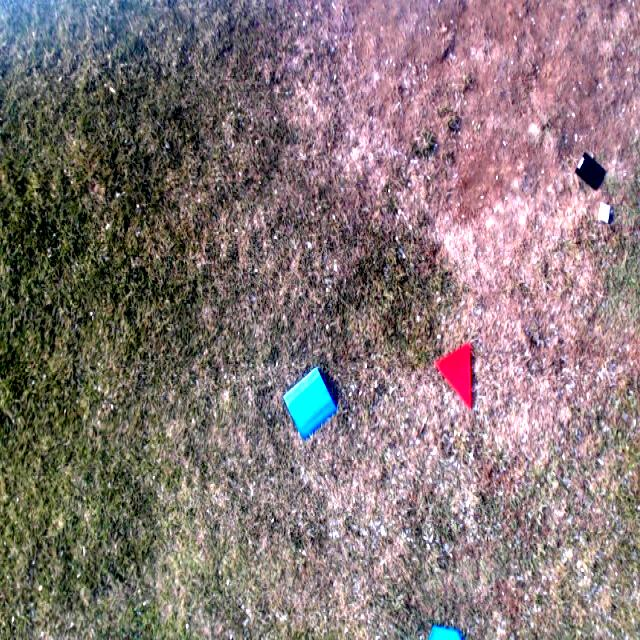blue_square: (282, 364, 340, 441)
red_triangle: (434, 342, 472, 412)
